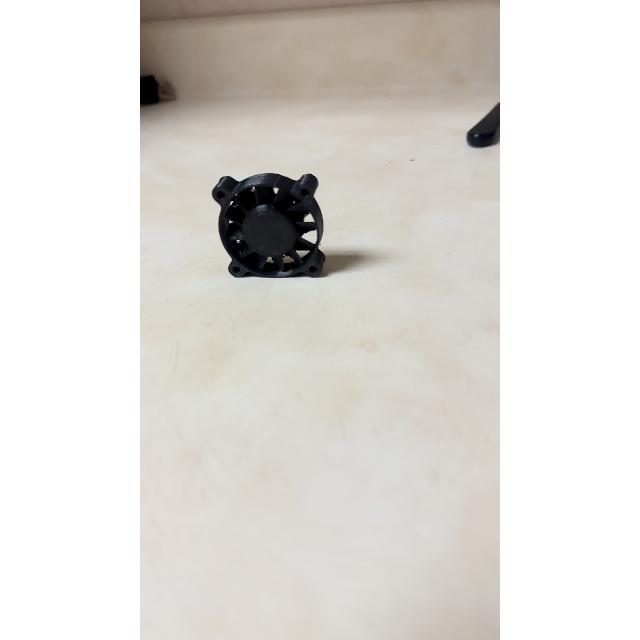Pieza4: (199, 148, 337, 296)
